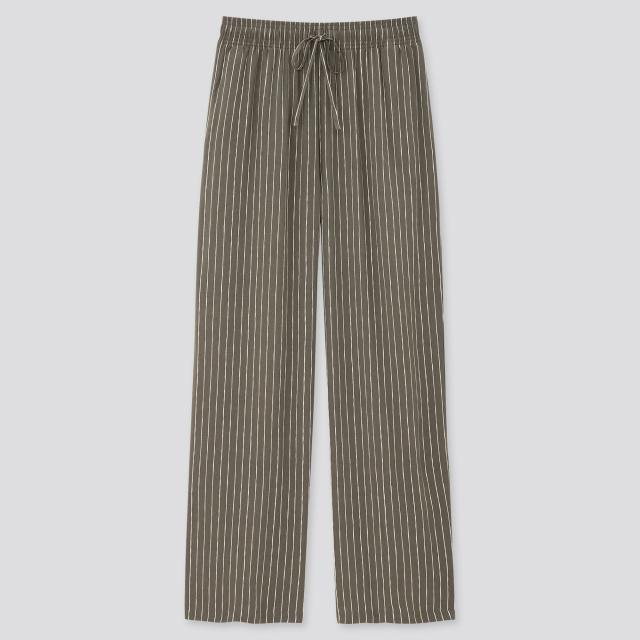long-pants: (184, 17, 455, 627)
